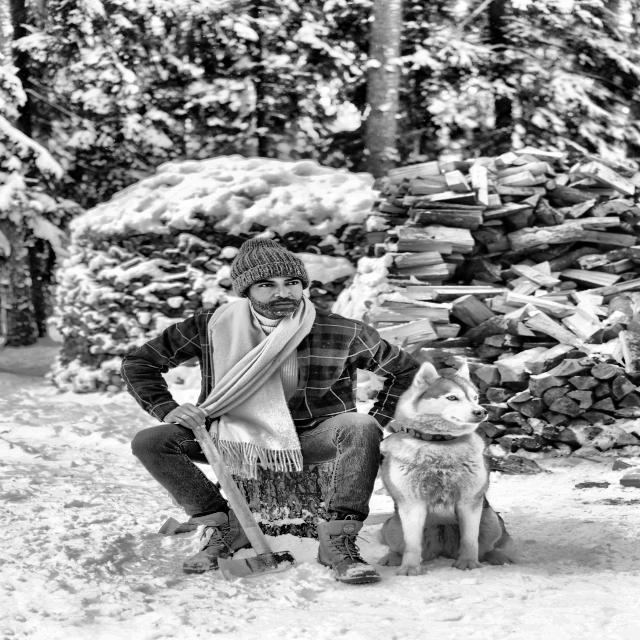kapak: (162, 398, 320, 595)
